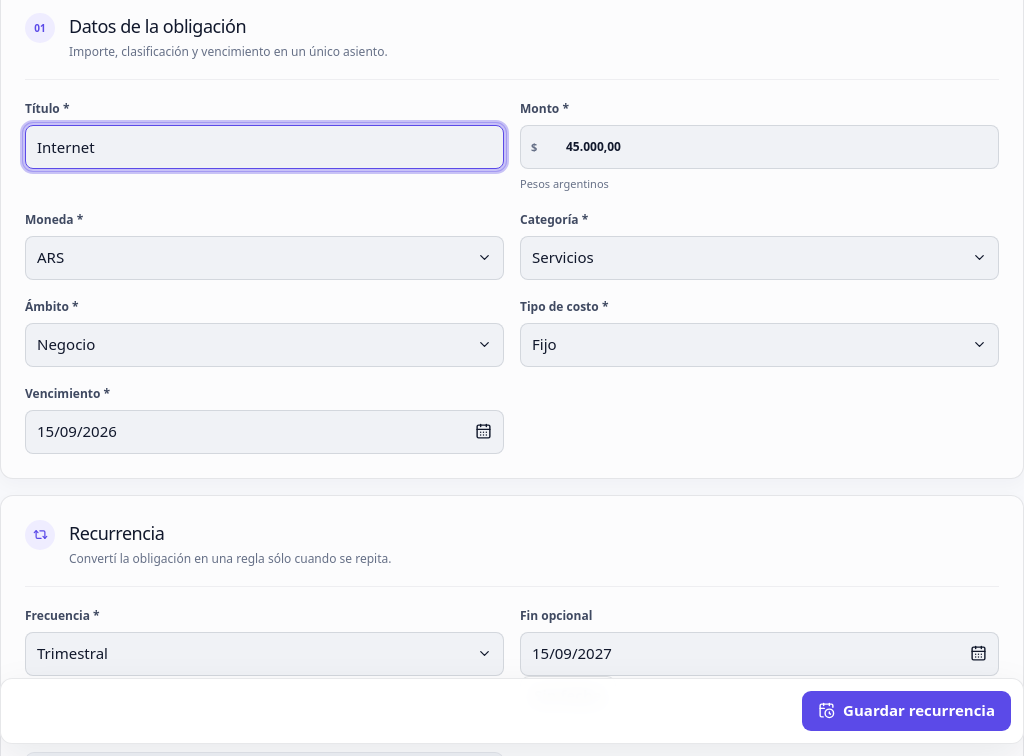
Scenario: ExpenseForm › maps the primary due date to recurrence metadata without a second start date
Expected: the dropdown named "Fin: 15/09/2027" is shown, [520,632,999,676]
Click the button "Guardar recurrencia" at (907, 711), box [802,691,1011,731]
(page scrolled)
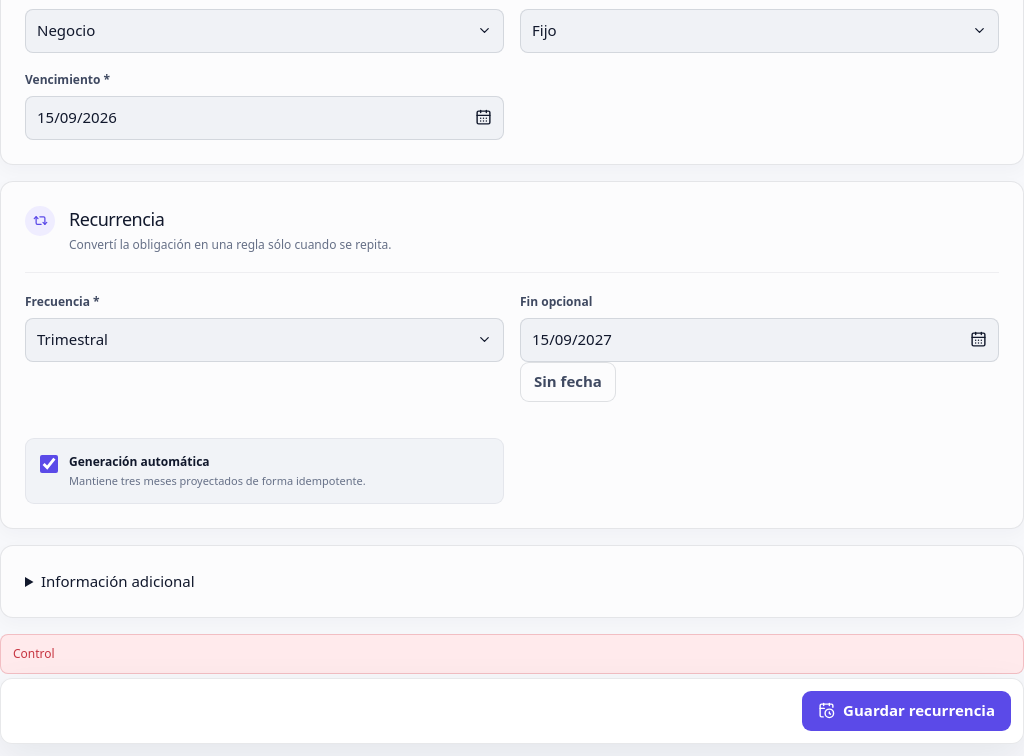
Expected: the dropdown named "Frecuencia" reads "Trimestral", [25,318,504,362]
Result: the message "Control" is shown at [0,634,1023,674]
